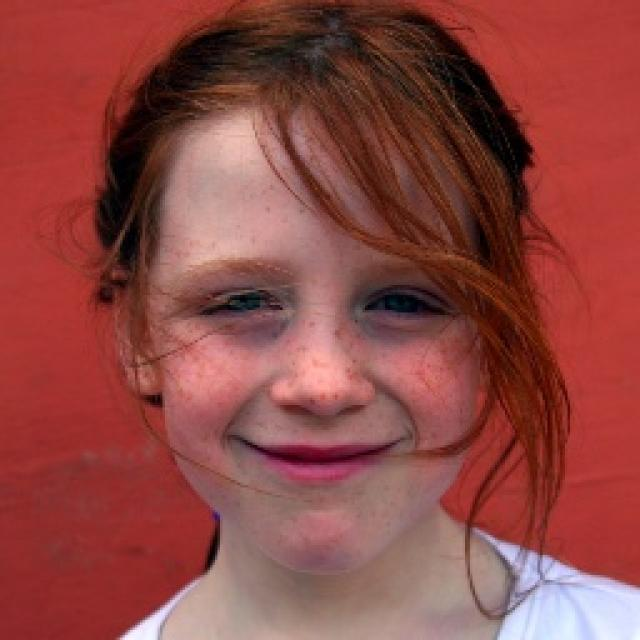earlobe: (128, 353, 163, 399)
eye: (365, 287, 448, 325), (202, 287, 282, 322)
nose: (276, 402, 374, 434)
wholeear: (108, 262, 164, 398)
